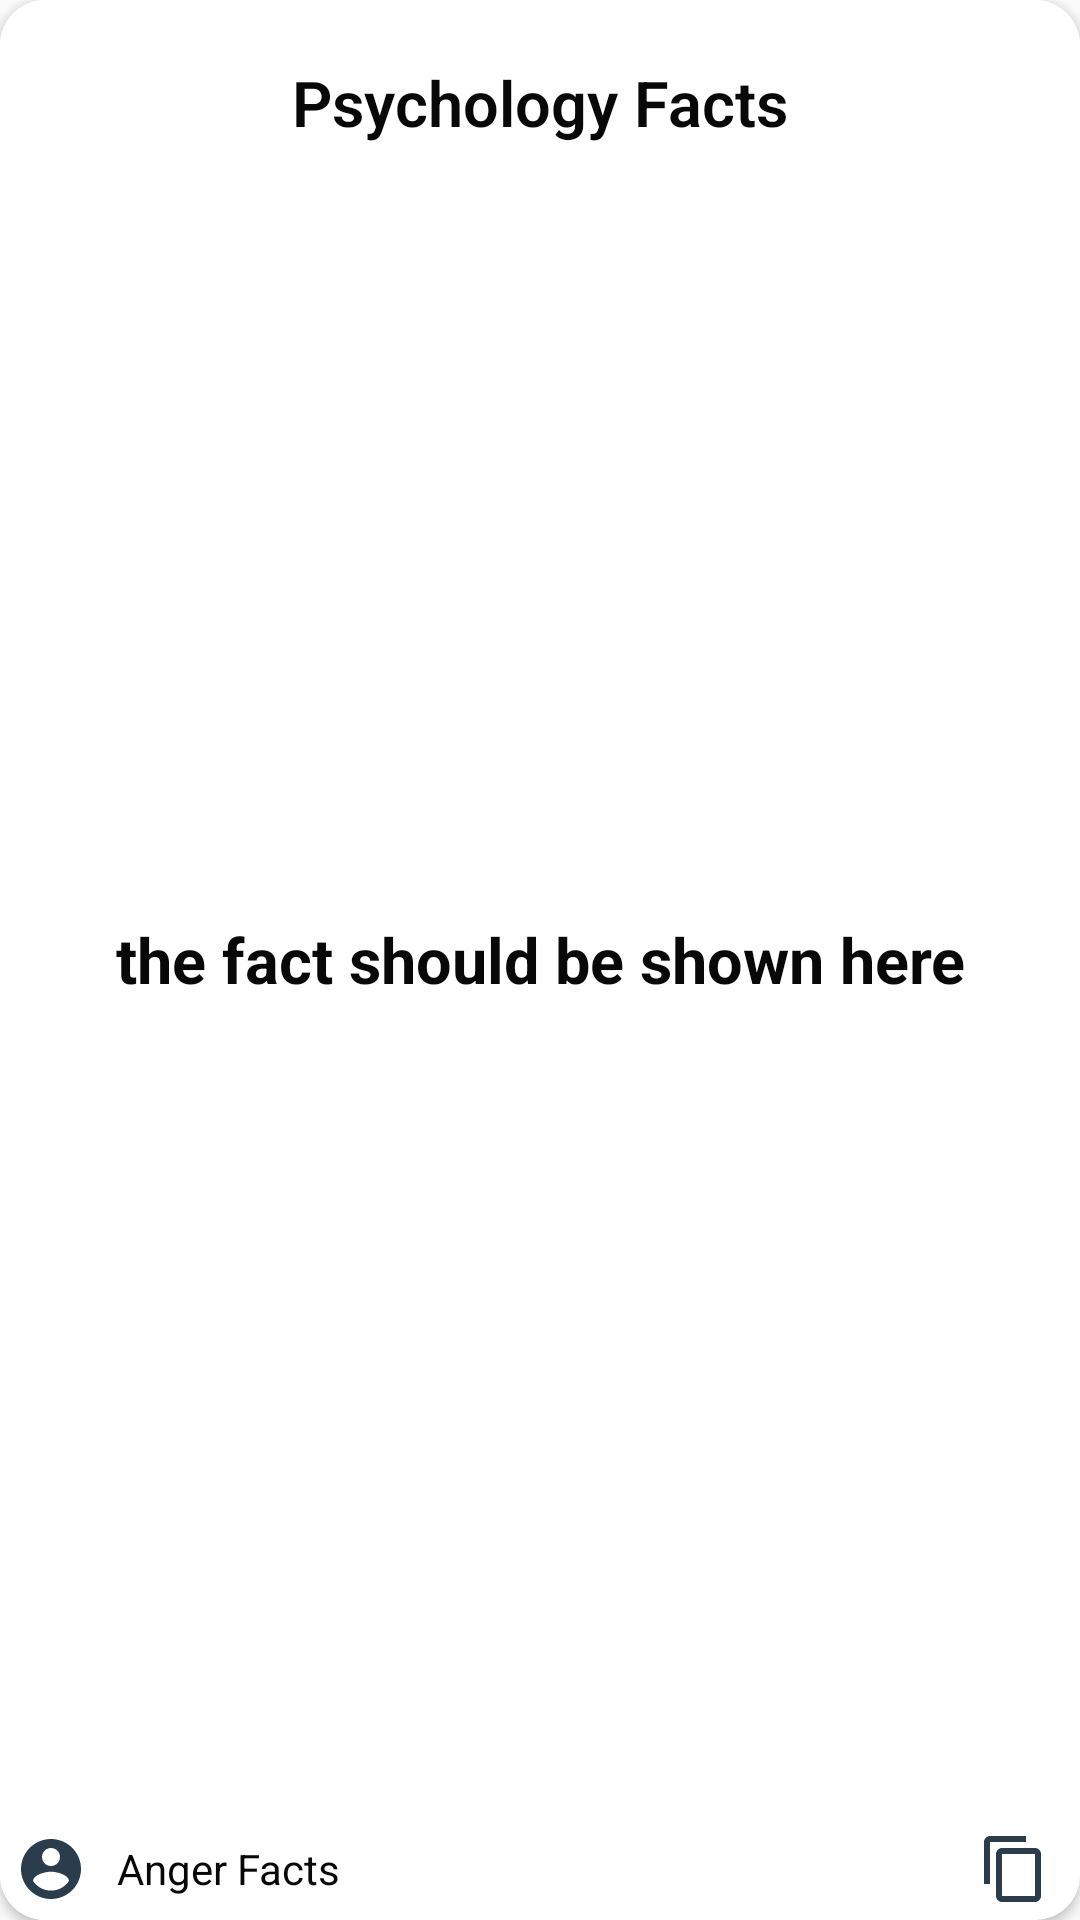

Screen size 1080 × 1920. Icon name, then its box in pixels as Rect(x1, y1, x2, y2):
account circle: Rect(21, 1839, 81, 1899)
